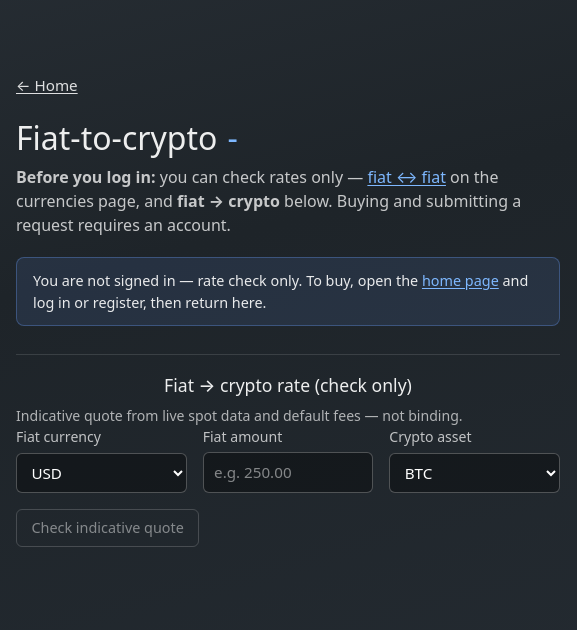
Test: FiatToCryptoRequestForm (FCX-40) › loads indicative quote without login when Check indicative quote is used
Type "50.00" into the field named "Fiat amount for quote". click: (288, 473)
box: [203,452,373,493]
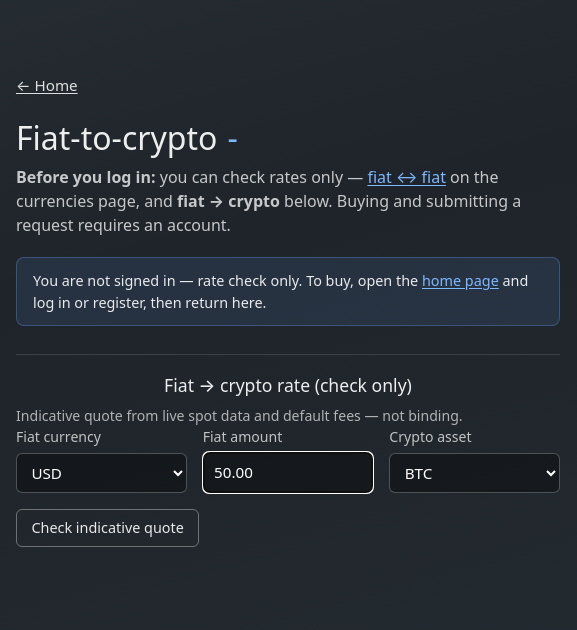
Click the button "Check indicative quote". click: click(108, 528)
box: [16,509,199,547]
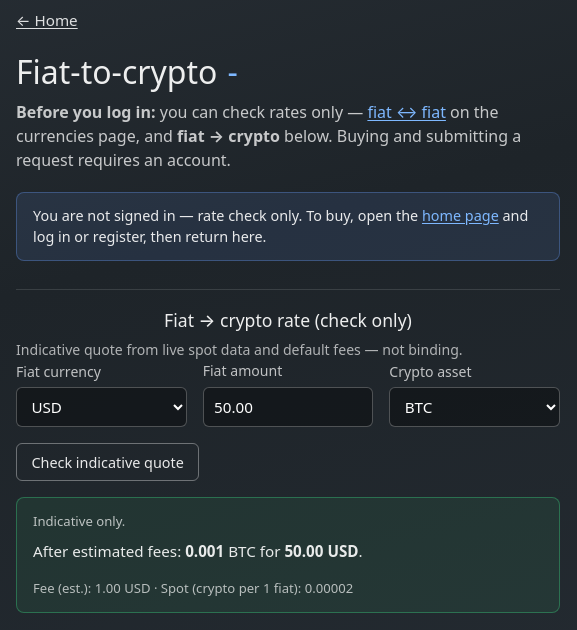
Result: the text "Indicative only." is shown at [33,512,125,530]
